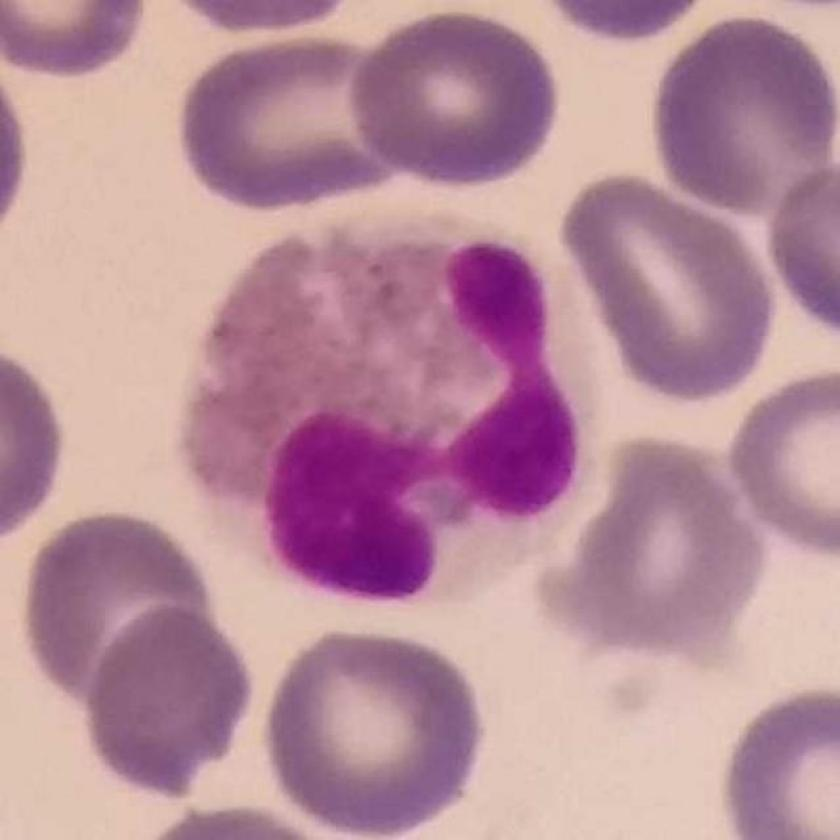eosinophil: (177, 220, 601, 601)
